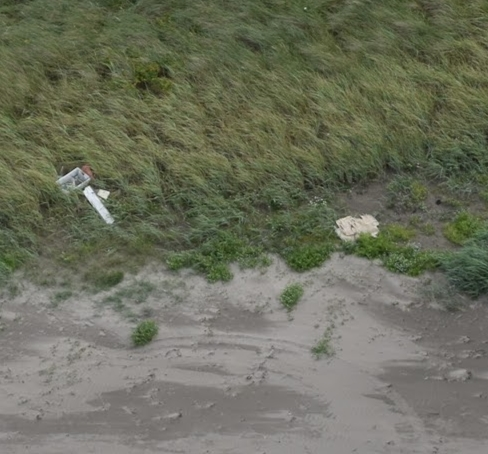white_in_green: (29, 137, 149, 256), (299, 167, 419, 286)
